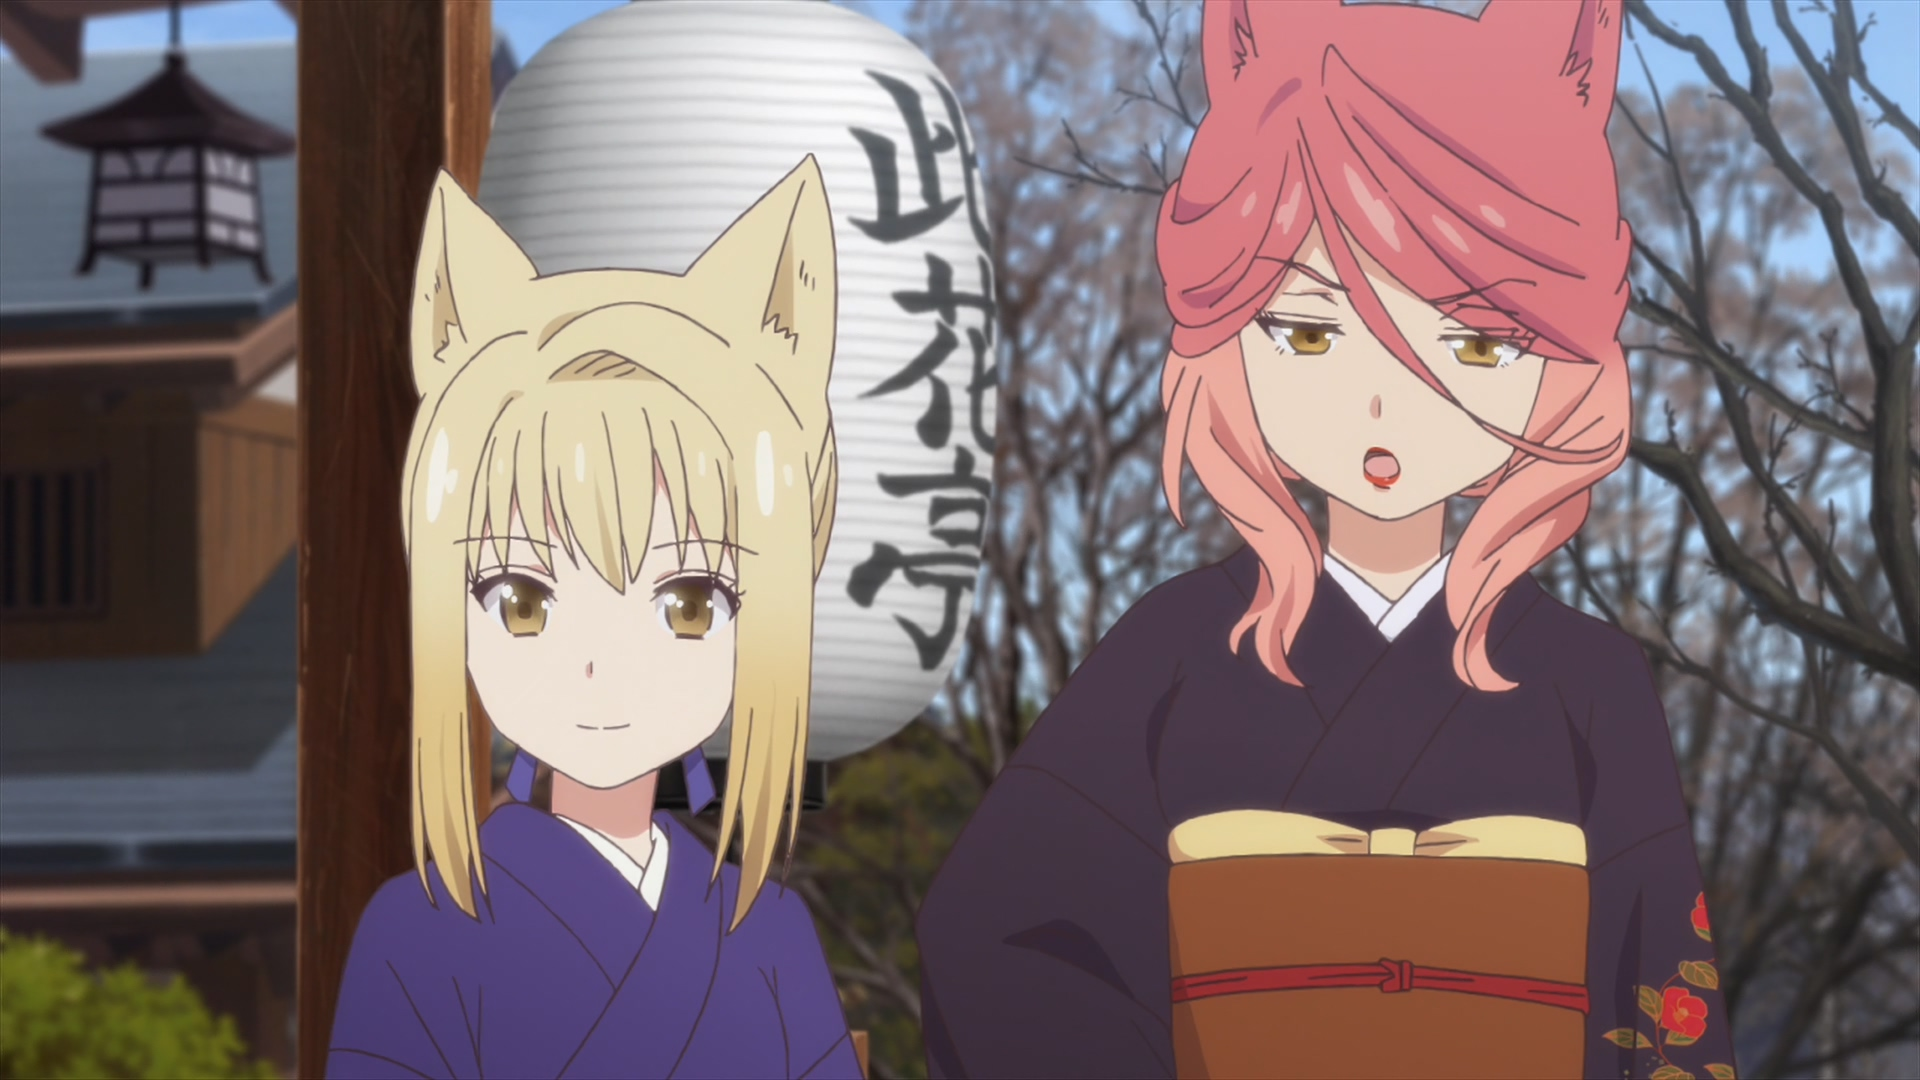桐: (327, 153, 862, 1080)
椿: (919, 1, 1741, 1080)
